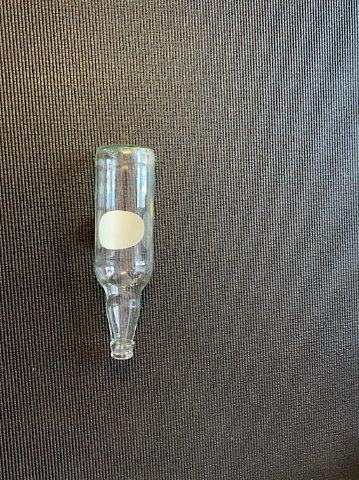botolkaca: (94, 145, 155, 360)
